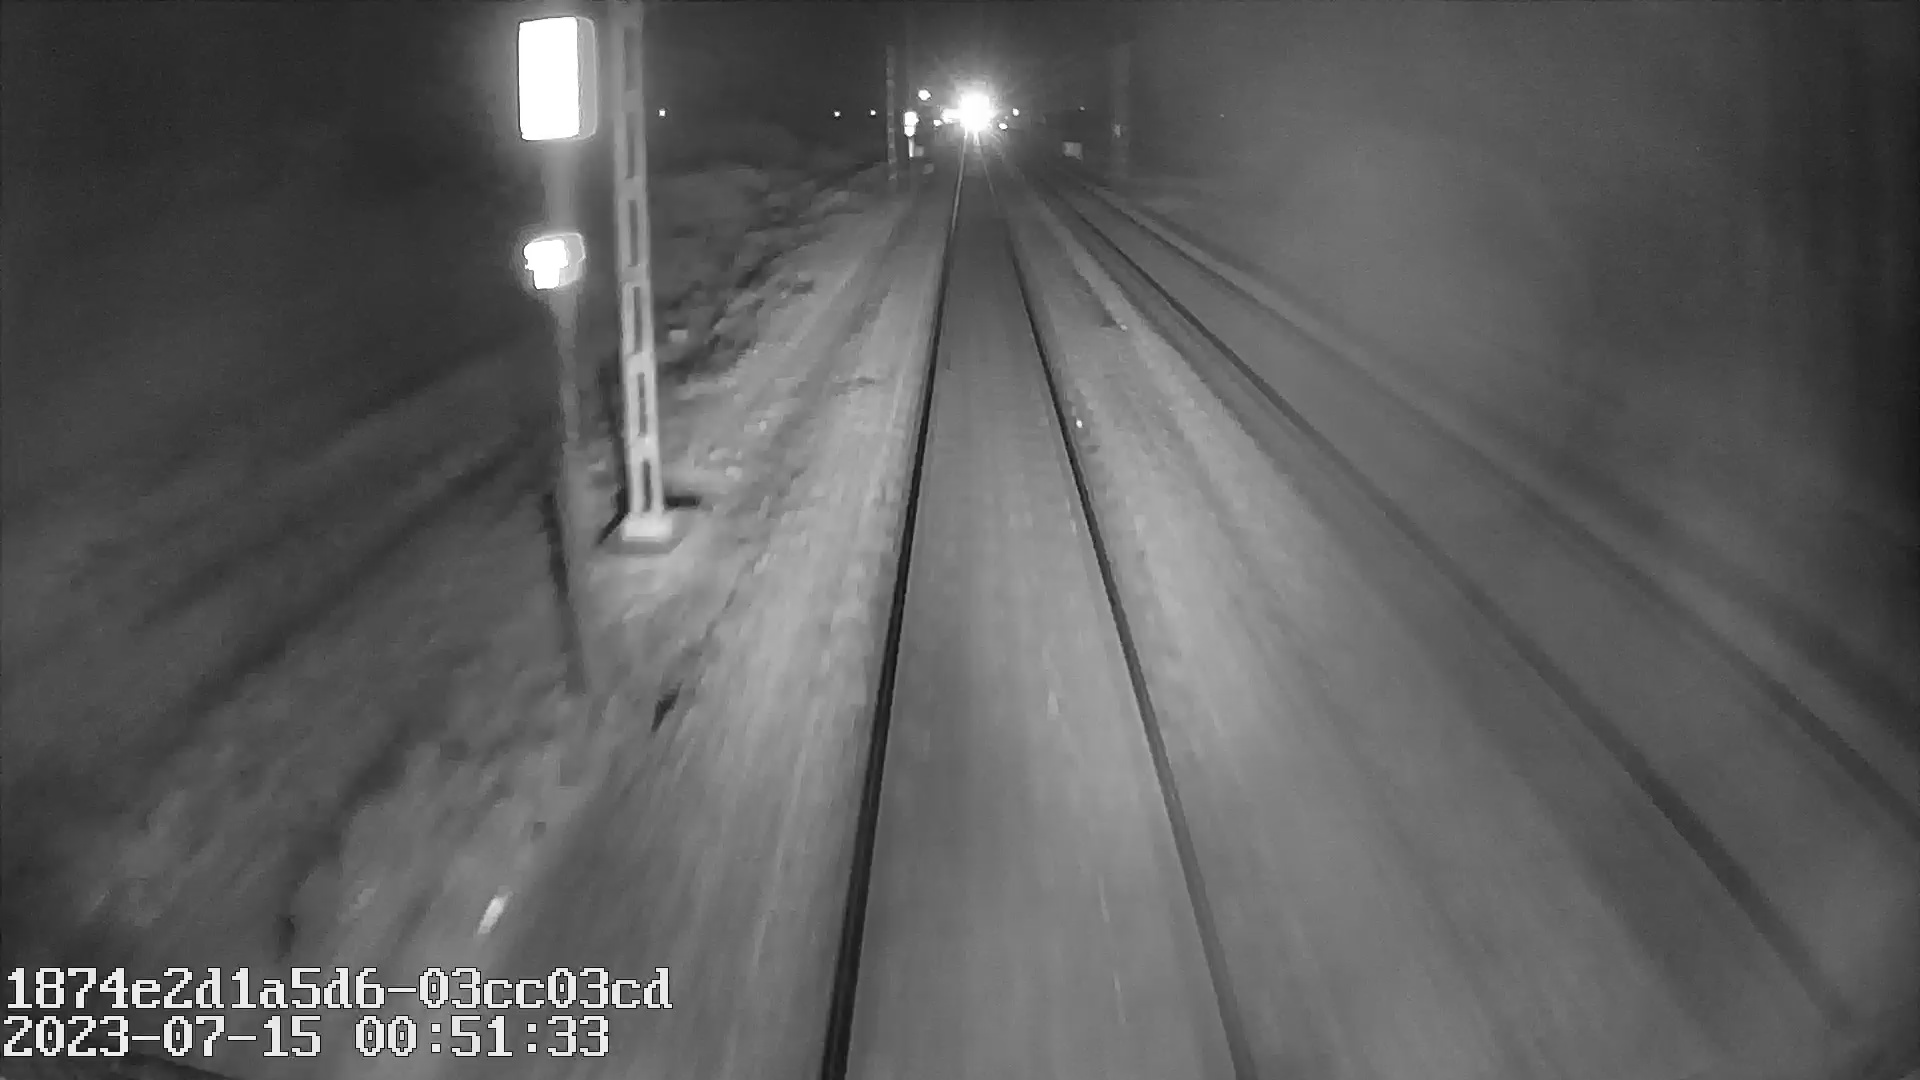track1: (839, 157, 1242, 1049)
track2: (1038, 169, 1906, 940)
